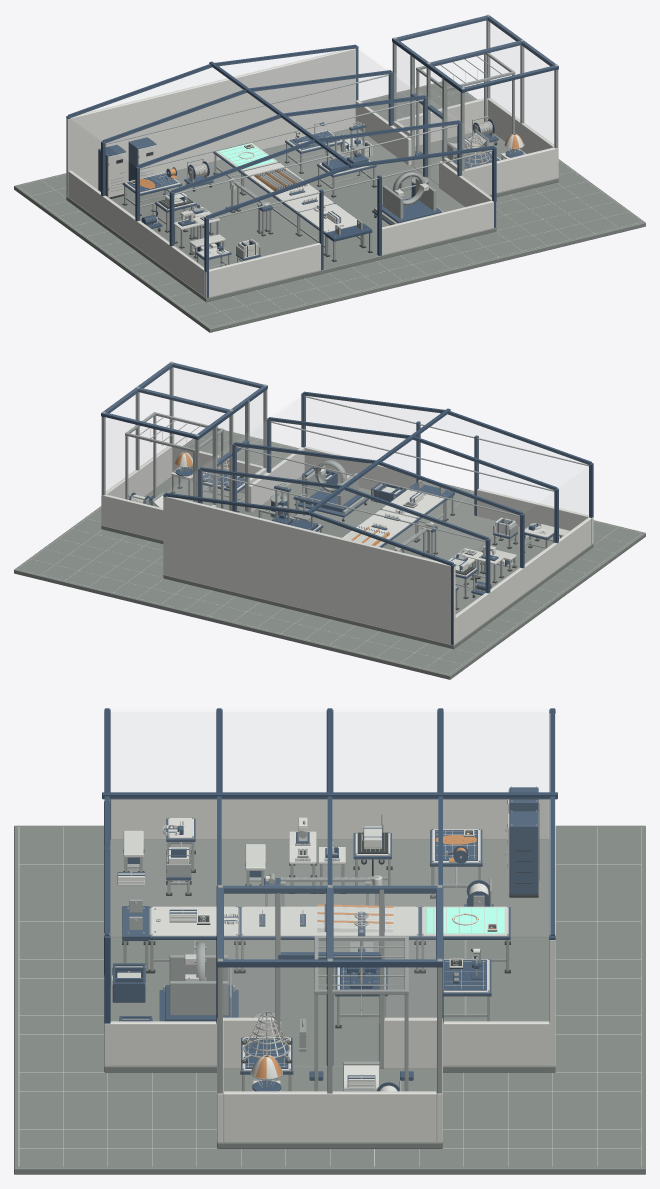
The model's file is spacecraft-parachute-packing-hall-spacec-3a23fc41-starter-scene__32124.glb.
3 renders of one model, top to bottom at view 1: azimuth 30°, elevation 25°; view 2: azimuth 150°, elevation 25°; view 3: azimuth 270°, elevation 25°, orthographic. The views are drawn at different scales.
Visible parts, largest first — view 1: 001-spacecraft-parachute-packing-hall-roofed-parachute-packi (×5), 000-spacecraft-parachute-packing-hall-packing-hall-floor-bas (×2), 002-spacecraft-parachute-packing-hall-glazed-inspection-anne (×5), 053-spacecraft-parachute-packing-hall-capsule-recovery-fixtu (×2), 018-spacecraft-parachute-packing-hall-suspended-drying-frame, 003-spacecraft-parachute-packing-hall-long-canopy-packing-ta, 004-spacecraft-parachute-packing-hall-table-extension-bridge, 039-spacecraft-parachute-packing-hall-conditioning-cabinet/2, 005-spacecraft-parachute-packing-hall-canopy-inspection-ligh, 040-spacecraft-parachute-packing-hall-conditioning-cabinet/1, 026-spacecraft-parachute-packing-hall-fabric-cutting-table/2, 010-spacecraft-parachute-packing-hall-main-canopy-folded-fan; view 2: 001-spacecraft-parachute-packing-hall-roofed-parachute-packi (×5), 000-spacecraft-parachute-packing-hall-packing-hall-floor-bas (×2), 002-spacecraft-parachute-packing-hall-glazed-inspection-anne (×5), 018-spacecraft-parachute-packing-hall-suspended-drying-frame, 053-spacecraft-parachute-packing-hall-capsule-recovery-fixtu (×2), 003-spacecraft-parachute-packing-hall-long-canopy-packing-ta, 004-spacecraft-parachute-packing-hall-table-extension-bridge; view 3: 001-spacecraft-parachute-packing-hall-roofed-parachute-packi (×4), 000-spacecraft-parachute-packing-hall-packing-hall-floor-bas (×2), 002-spacecraft-parachute-packing-hall-glazed-inspection-anne (×5), 053-spacecraft-parachute-packing-hall-capsule-recovery-fixtu (×2), 003-spacecraft-parachute-packing-hall-long-canopy-packing-ta, 018-spacecraft-parachute-packing-hall-suspended-drying-frame, 005-spacecraft-parachute-packing-hall-canopy-inspection-ligh (×2), 040-spacecraft-parachute-packing-hall-conditioning-cabinet/1, 004-spacecraft-parachute-packing-hall-table-extension-bridge, 041-spacecraft-parachute-packing-hall-fabric-cutting-table/2, 010-spacecraft-parachute-packing-hall-main-canopy-folded-fan, 064-spacecraft-parachute-packing-hall-packed-assembly-shippi (+5 smaller).
Boxes of the visible parts, x1,y1,x2,y2 form: 001-spacecraft-parachute-packing-hall-roofed-parachute-packi (×5): [66, 44, 496, 302]; 000-spacecraft-parachute-packing-hall-packing-hall-floor-bas (×2): [14, 81, 645, 332]; 002-spacecraft-parachute-packing-hall-glazed-inspection-anne (×5): [392, 14, 558, 197]; 053-spacecraft-parachute-packing-hall-capsule-recovery-fixtu (×2): [382, 171, 441, 223]; 018-spacecraft-parachute-packing-hall-suspended-drying-frame: [416, 53, 515, 157]; 003-spacecraft-parachute-packing-hall-long-canopy-packing-ta: [243, 163, 334, 212]; 004-spacecraft-parachute-packing-hall-table-extension-bridge: [299, 204, 356, 232]; 039-spacecraft-parachute-packing-hall-conditioning-cabinet/2: [108, 152, 125, 197]; 005-spacecraft-parachute-packing-hall-canopy-inspection-ligh: [218, 143, 274, 168]; 040-spacecraft-parachute-packing-hall-conditioning-cabinet/1: [128, 137, 156, 181]; 026-spacecraft-parachute-packing-hall-fabric-cutting-table/2: [122, 173, 182, 195]; 010-spacecraft-parachute-packing-hall-main-canopy-folded-fan: [257, 168, 307, 189]; 001-spacecraft-parachute-packing-hall-roofed-parachute-packi (×5): [163, 391, 593, 649]; 000-spacecraft-parachute-packing-hall-packing-hall-floor-bas (×2): [14, 429, 645, 679]; 002-spacecraft-parachute-packing-hall-glazed-inspection-anne (×5): [101, 361, 267, 543]; 018-spacecraft-parachute-packing-hall-suspended-drying-frame: [125, 412, 224, 508]; 053-spacecraft-parachute-packing-hall-capsule-recovery-fixtu (×2): [299, 459, 362, 512]; 003-spacecraft-parachute-packing-hall-long-canopy-packing-ta: [342, 510, 416, 546]; 004-spacecraft-parachute-packing-hall-table-extension-bridge: [381, 489, 444, 518]; 001-spacecraft-parachute-packing-hall-roofed-parachute-packi (×4): [102, 708, 557, 1072]; 000-spacecraft-parachute-packing-hall-packing-hall-floor-bas (×2): [14, 825, 645, 1174]; 002-spacecraft-parachute-packing-hall-glazed-inspection-anne (×5): [216, 885, 443, 1148]; 053-spacecraft-parachute-packing-hall-capsule-recovery-fixtu (×2): [165, 942, 232, 1021]; 003-spacecraft-parachute-packing-hall-long-canopy-packing-ta: [241, 906, 418, 936]; 018-spacecraft-parachute-packing-hall-suspended-drying-frame: [314, 936, 408, 1091]; 005-spacecraft-parachute-packing-hall-canopy-inspection-ligh (×2): [422, 906, 508, 936]; 040-spacecraft-parachute-packing-hall-conditioning-cabinet/1: [509, 811, 538, 894]; 004-spacecraft-parachute-packing-hall-table-extension-bridge: [151, 906, 237, 936]; 041-spacecraft-parachute-packing-hall-fabric-cutting-table/2: [443, 959, 491, 996]; 010-spacecraft-parachute-packing-hall-main-canopy-folded-fan: [317, 906, 393, 932]; 064-spacecraft-parachute-packing-hall-packed-assembly-shippi: [112, 963, 145, 1002].
Bounding box in the file's own units: 18 × 4.77 × 14.
